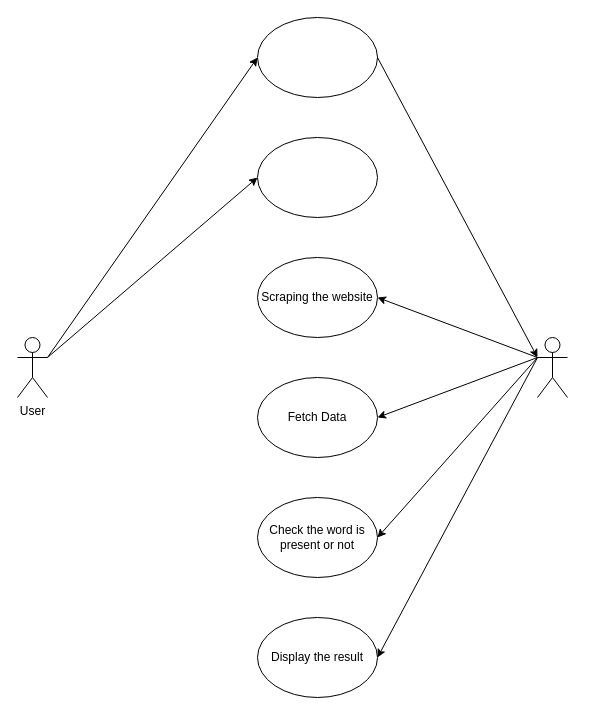
Some shapes in this 590 by 715 pixel diagram are drawn without their labels. The shapes that lost their labels are listed below. From the top down, each one's centre as x and y in pixels, then its label:
[317,57]: Enter word
[317,177]: Meaning of the word
[552,367]: System
